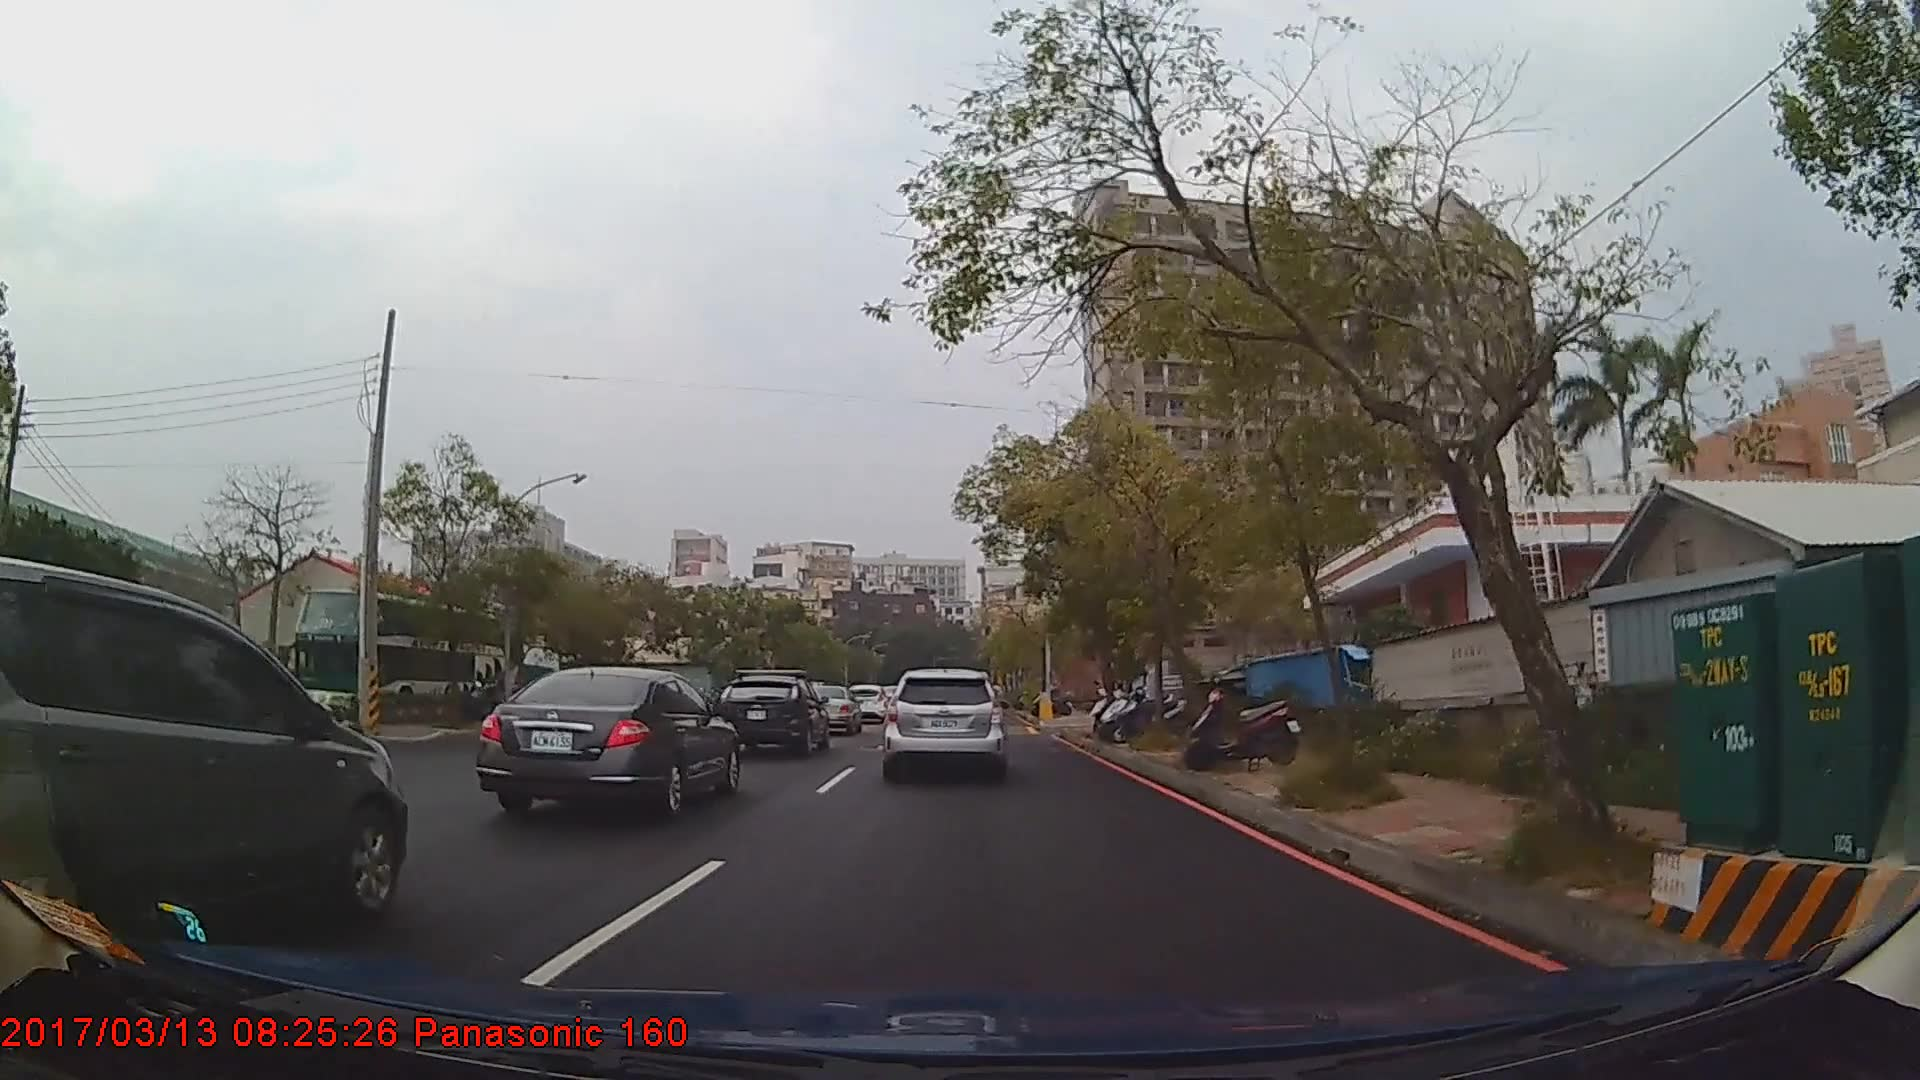vehicle: (0, 553, 409, 949), (475, 662, 742, 819), (291, 588, 502, 723), (881, 667, 1006, 781), (716, 667, 828, 757), (804, 684, 862, 737), (843, 684, 889, 724)
